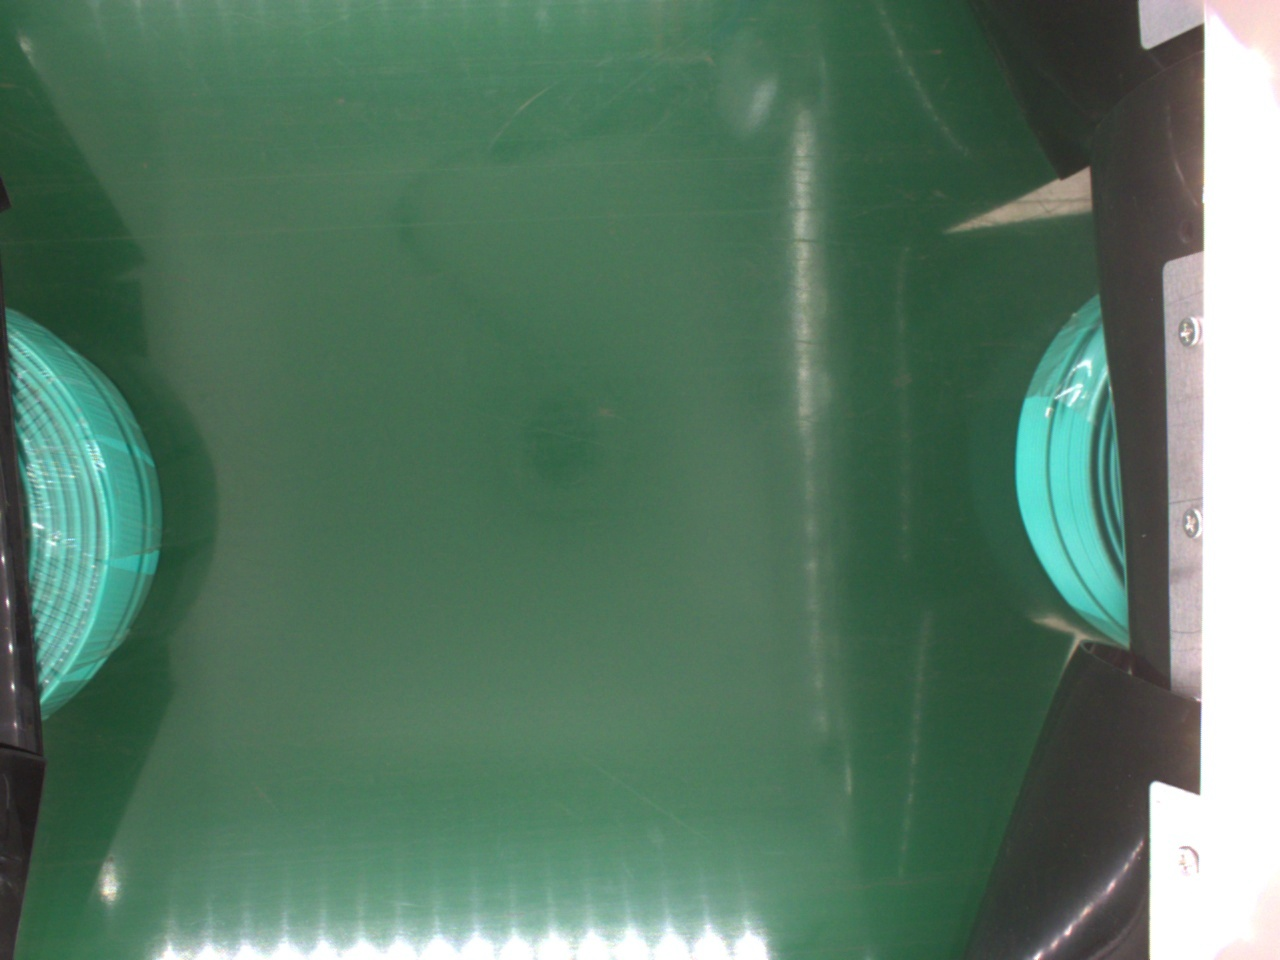green: (3, 309, 153, 706), (1019, 295, 1135, 654)
